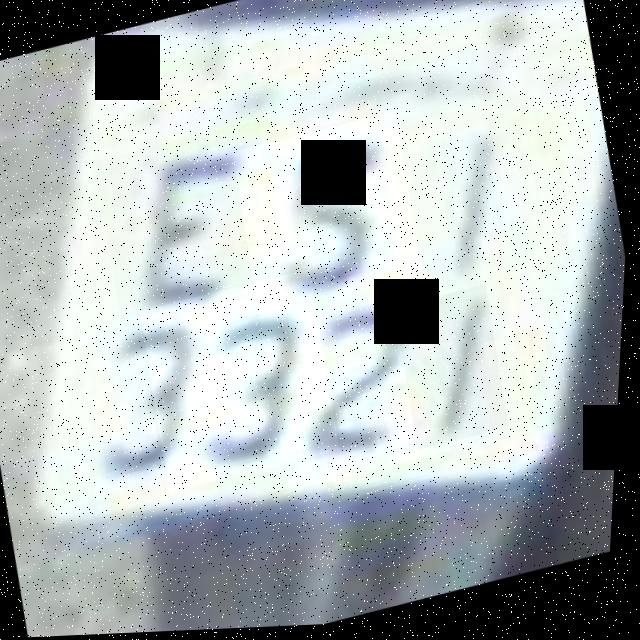1: (392, 287, 520, 455)
2: (254, 274, 463, 496)
3: (34, 274, 252, 500), (136, 269, 352, 496)
E: (90, 121, 293, 323)
S: (227, 112, 431, 317)
